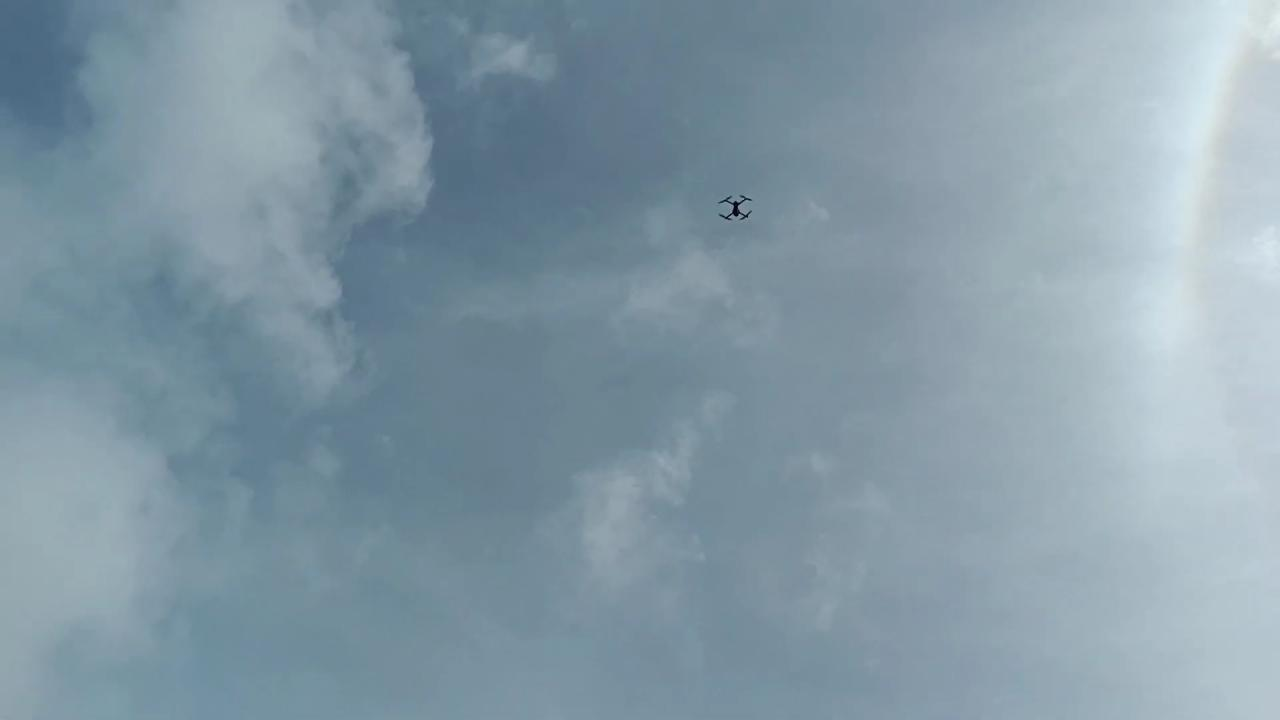Drone: (704, 184, 766, 233)
